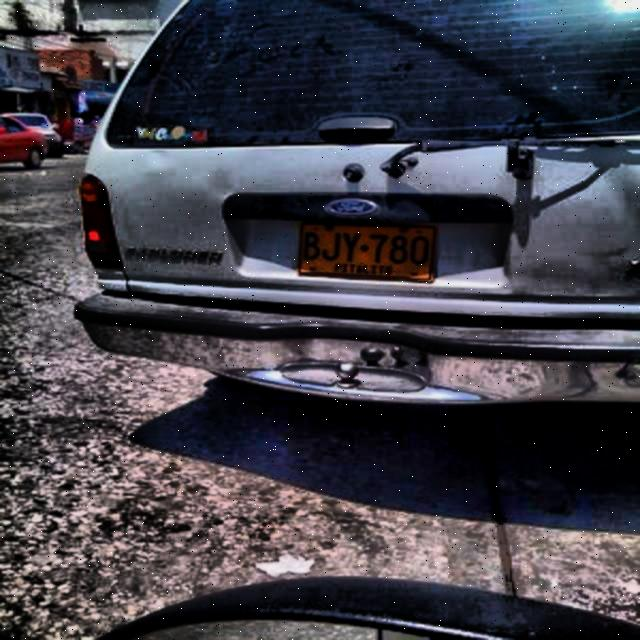plate: (300, 223, 435, 280)
